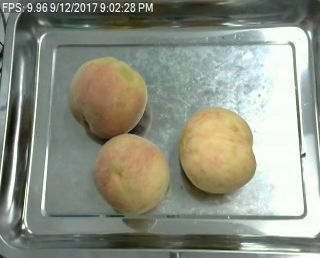Peach: (67, 55, 148, 137), (181, 106, 256, 193), (93, 132, 169, 214)
